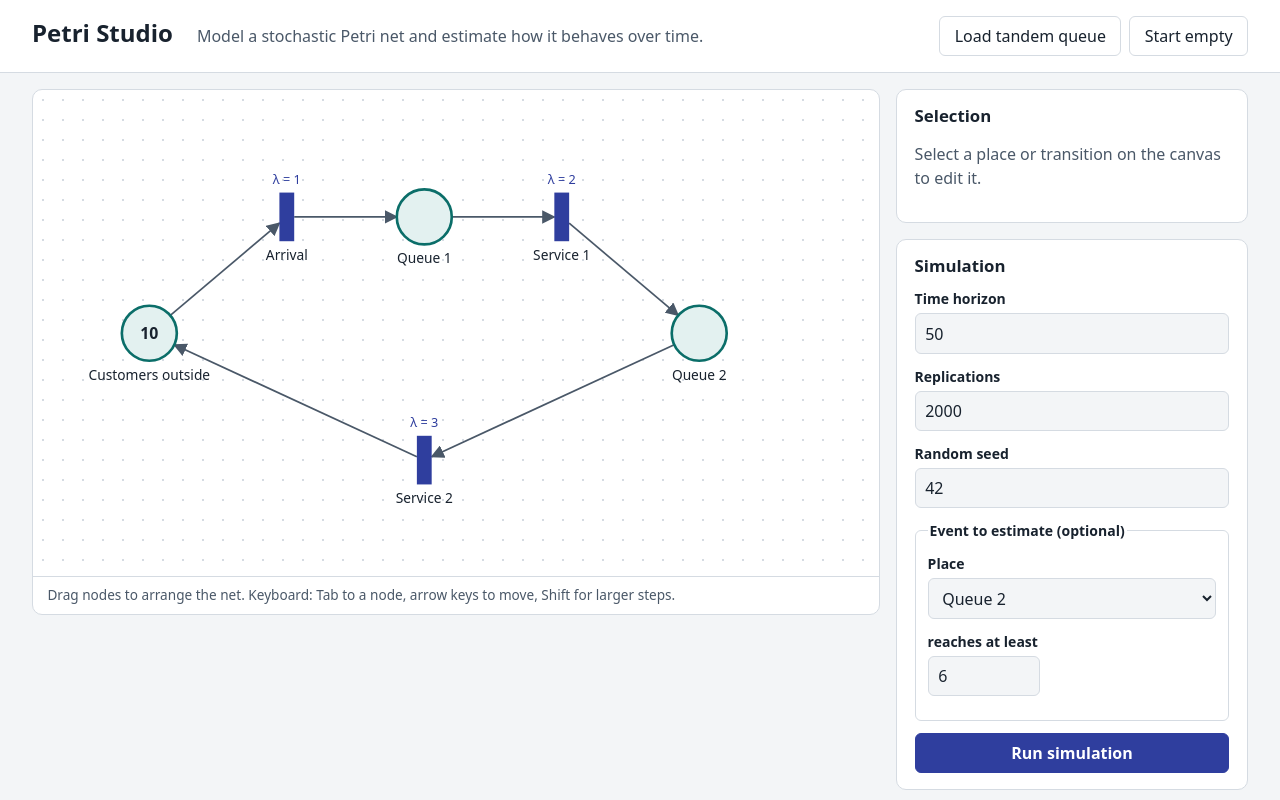
Test: App › runs a simulation and reports the estimate
Click the button "Run simulation" at (1072, 753), box 915,733 -> 1229,773
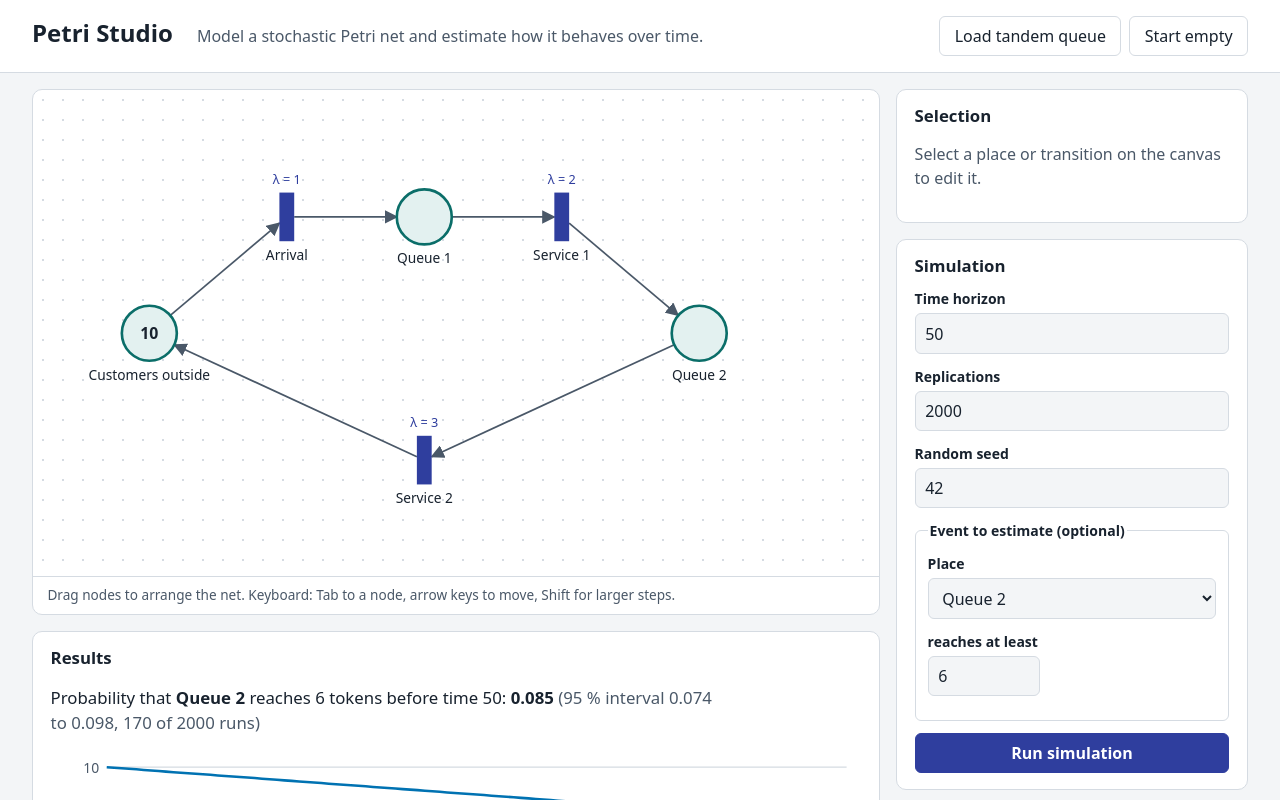
Expected: the text "0.085" is shown, 511,686 -> 554,709
